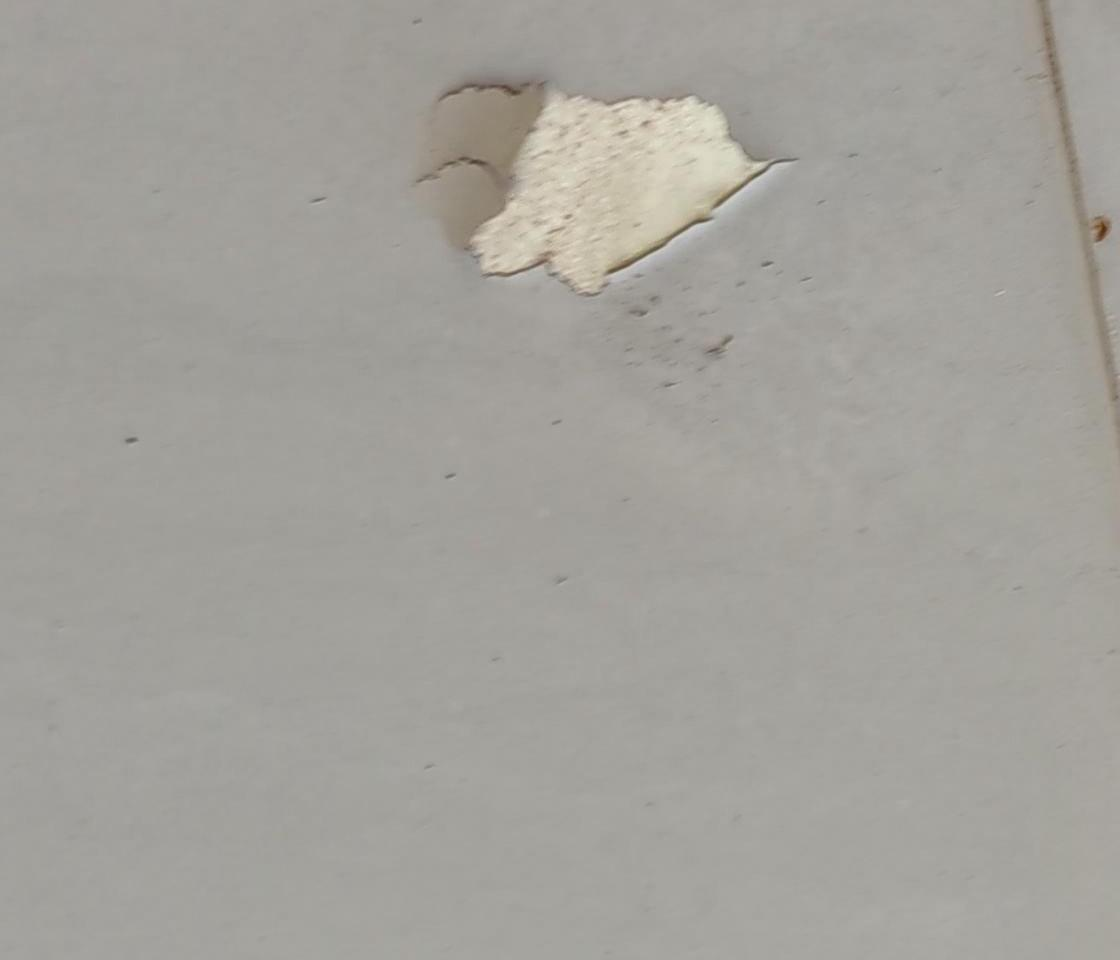paint_peel: (466, 68, 781, 298)
